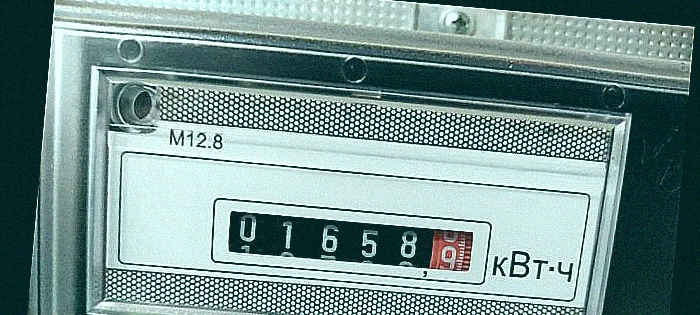0: (236, 209, 259, 243)
1: (279, 217, 295, 249)
5: (359, 225, 380, 259)
6: (319, 221, 342, 253)
8: (398, 227, 419, 260)
9: (437, 242, 457, 269)
screen: (200, 187, 497, 291)
